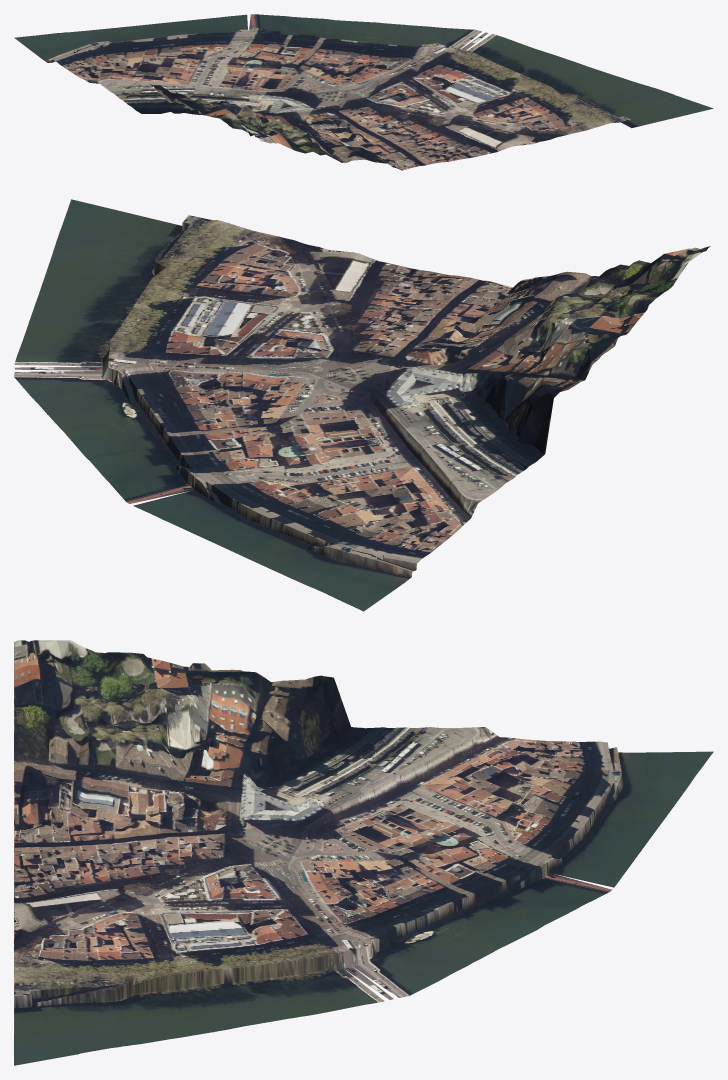
The model's file is gml_a4635653-22bf-43bf-9894-1f652cf03371.gltf.
3 renders of one model, top to bottom at view 1: azimuth 30°, elevation 25°; view 2: azimuth 150°, elevation 25°; view 3: azimuth 270°, elevation 25°, orthographic. The views are drawn at different scales.
Visible parts, largest first — view 1: Z_UP; view 2: Z_UP; view 3: Z_UP.
Part boxes in pixels (x1,y1,x2,y2): Z_UP: (14,14,713,170); Z_UP: (14,199,710,611); Z_UP: (14,640,713,1065).
Size of the model in its own units: 360 by 60.41 by 340.
Materials: 1 (1 with a texture image).
